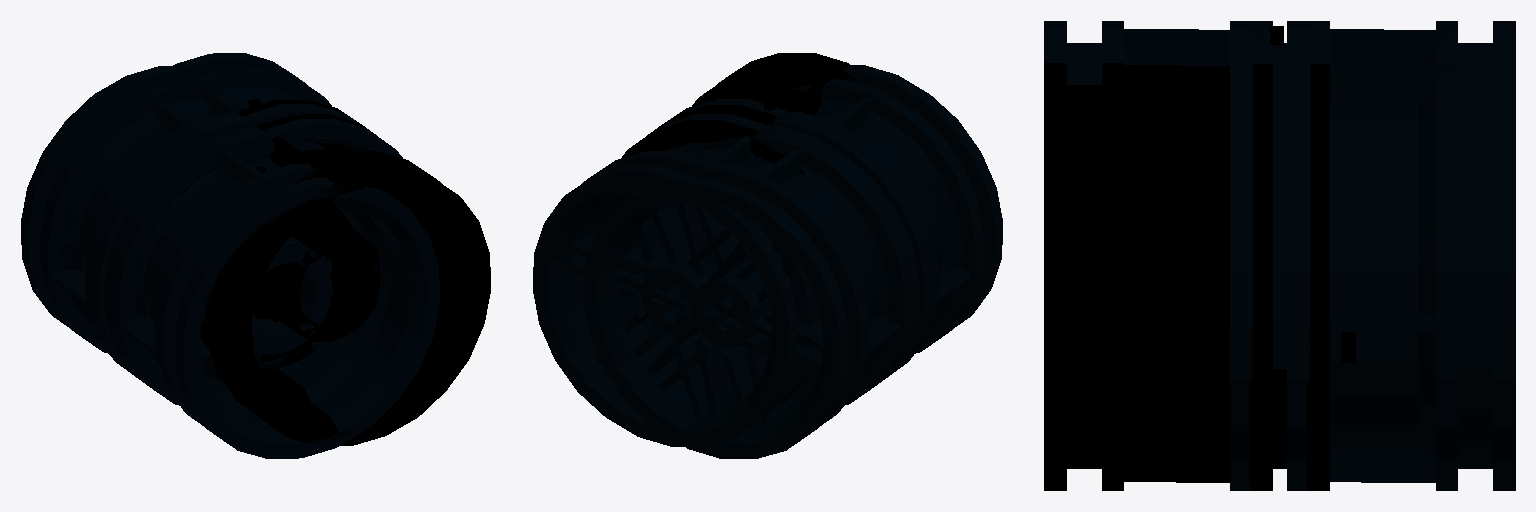
robot.urdf — maskor_ev3_bobb3e:
<?xml version="1.0"?>
<!-- ******************************************* -->
<!-- MASKOR EV3 BOBB3E URDF MODEL                -->   
<!-- [author]                            -->
<!-- [email redacted]                      -->   
<!-- [author]                                -->
<!-- [email redacted]            -->   
<!-- [author]                            -->
<!-- [email redacted]        -->   
<!-- ******************************************* -->


<robot name="maskor_ev3_bobb3e" xmlns:xacro="http://ros.org/wiki/xacro">

  <material name="white">
    <color rgba="1 1 1 1"/>
  </material>

  <material name="black">
    <color rgba="0 0 0 1"/>
  </material>


<!-- ************** -->
<!-- BASE FOOTPRINT -->   
<!-- ************** -->
  <link name="base_footprint">
  </link>


<!-- ************** -->
<!-- BASE LINK      -->   
<!-- ************** -->
  <link name="base_link">
    <visual>
      <geometry>
	<mesh filename="package://maskor_ev3/description/meshes/bobb3e_baseLink.dae" scale="1 1 1"/> 
        <!--box size="0.005 0.005 0.005"/-->
      </geometry>
      <origin rpy="0 0 0" xyz="0 0 -0.05"/>
      <material name="black"/>
    </visual>

    <collision>
      <geometry>
        <box size="0.005 0.005 0.005"/>
      </geometry>
    </collision>

    <inertial>
      <mass value="0.1"/>
      <inertia ixx="0.4" ixy="0.0" ixz="0.0" iyy="0.4" iyz="0.0" izz="0.2"/>
    </inertial>
  
  </link>


<!-- ******************** -->
<!-- LEFT FRONT WHEEL     -->   
<!-- ******************** -->
  <link name="left_front_wheel_link">
    <visual>
      <geometry>
     	<mesh filename="package://maskor_ev3/description/meshes/bobb3e_tire.dae" scale="1 1 1"/> 
      </geometry>
      <origin rpy="0 0 0" xyz="0 0 0"/>
    </visual>

    <collision>
      <geometry>
        <cylinder length="0.08" radius="0.075"/>
      </geometry>
    </collision>

  </link>

<!-- ****************** -->
<!-- RIGHT FRONT WHEEL  -->   
<!-- *****************  -->
  <link name="right_front_wheel_link">
    <visual>
      <geometry>
     	<mesh filename="package://maskor_ev3/description/meshes/bobb3e_tire.dae" scale="1 1 1"/> 
      </geometry>
      <material name="black"/>
     <origin rpy="0 0 0" xyz="0 0 0"/> 
   </visual>

    <collision>
      <geometry>
        <cylinder length="0.08" radius="0.075"/>
      </geometry>
    </collision>

  </link>

<!-- ******************** -->
<!-- LEFT REAR  WHEEL     -->   
<!-- ******************** -->
  <link name="left_rear_wheel_link">
    <visual>
      <geometry>
     	<mesh filename="package://maskor_ev3/description/meshes/bobb3e_tire.dae" scale="1 1 1"/> 
      </geometry>
      <origin rpy="0 0 0" xyz="0 0 0"/>
    </visual>

    <collision>
      <geometry>
        <cylinder length="0.08" radius="0.075"/>
      </geometry>
    </collision>

  </link>

<!-- ******************** -->
<!-- RIGHT REAR WHEEL     -->   
<!-- ******************** -->
  <link name="right_rear_wheel_link">
    <visual>
      <geometry>
     	<mesh filename="package://maskor_ev3/description/meshes/bobb3e_tire.dae" scale="1 1 1"/> 
      </geometry>
      <origin rpy="0 0 0" xyz="0 0 0"/>
    </visual>

    <collision>
      <geometry>
        <cylinder length="0.08" radius="0.075"/>
      </geometry>
    </collision>

  </link>



<!-- ************** -->
<!-- COLOR SENSOR     -->   
<!-- ************** -->
  <link name="color_sensor_link">
    <visual>
      <geometry>
        <box size="0.01 0.01 0.035"/>
      </geometry>
      <origin rpy="0 0 0" xyz="0 0 0"/>
      <material name="black"/>
    </visual>

    <collision>
      <geometry>
        <box size="0.01 0.01 0.035"/>
      </geometry>
    </collision>

  </link>


<!-- ************** -->
<!-- FORK LIFT     -->   
<!-- ************** -->
  <link name="fork_lift_link">
    <visual>
      <geometry>
	<!--mesh filename="package://maskor_ev3/description/meshes/bobb3e_tire.dae" scale="1 1 1"/--> 
	<box size="0.01 0.01 0.035"/>
      </geometry>
      <origin rpy="0 0 0" xyz="0 0 0"/>
      <material name="black"/>
    </visual>

    <collision>
      <geometry>
        <box size="0.01 0.01 0.01"/>
      </geometry>
    </collision>

    <inertial>
      <mass value="0.1"/>
      <inertia ixx="0.4" ixy="0.0" ixz="0.0" iyy="0.4" iyz="0.0" izz="0.2"/>
    </inertial>

  </link>


<!-- ************** -->
<!-- GYRO SENSOR     -->   
<!-- ************** -->
  <link name="gyro_sensor_link">
    <visual>
      <geometry>
        <box size="0.01 0.01 0.01"/>
      </geometry>
      <origin rpy="0 0 0" xyz="0 0 0"/>
      <material name="black"/>
    </visual>

    <collision>
      <geometry>
        <box size="0.01 0.01 0.01"/>
      </geometry>
    </collision>

  </link>

<!-- ***************  -->
<!-- INFRARED SENSOR -->   
<!-- ***************  -->
  <link name="infrared_sensor_link">
    <visual>
      <geometry>
        <box size="0.01 0.01 0.01"/>
      </geometry>
      <origin rpy="0 0 0" xyz="0 0 0"/>
      <material name="black"/>
    </visual>

    <collision>
      <geometry>
        <box size="0.01 0.01 0.01"/>
      </geometry>
    </collision>

  </link>


<!-- ***************  -->
<!-- FORK LINK  -->   
<!-- ***************  -->
<link name="fork_link">
  <visual>
    <geometry>
      <box size="0.01 0.1 0.01"/>
    </geometry>
    <origin rpy="0 0 0" xyz="0 0 0"/>
    <material name="black"/>
  </visual>

  <collision>
    <geometry>
      <box size="0.01 0.1 0.01"/>
    </geometry>
  </collision>

  </link>

  <link name="left_fork_link">
    <visual>
      <geometry>
	<box size="0.1 0.01 0.01"/>
      </geometry>
      <origin rpy="0 0 0" xyz="0.05 0 0"/>
      <material name="black"/>
    </visual>

    <collision>
      <geometry>
	<box size="0.1 0.01 0.01"/>
      </geometry>
      <origin rpy="0 0 0" xyz="0.05 0 0"/> 
    </collision>

  </link>

  <link name="right_fork_link">
    <visual>
      <geometry>
	<box size="0.1 0.01 0.01"/>
      </geometry>
      <origin rpy="0 0 0" xyz="0.05 0 0"/>
      <material name="black"/>
    </visual>

    <collision>
      <geometry>
	<box size="0.1 0.01 0.01"/>
      </geometry>
      <origin rpy="0 0 0" xyz="0.05 0 0"/>  
    </collision>

  </link>



<!-- ************** -->
<!-- JOINTS         -->   
<!-- ************** -->
  <joint name="base_link_to_base_footprint" type="fixed">
    <parent link="base_footprint"/>
    <child link="base_link"/>
   <origin xyz="0 0 0.05"/>
  </joint>

  <joint name="base_link_to_left_front_wheel" type="continuous">
    <parent link="base_link"/>
    <child link="left_front_wheel_link"/>
    <origin xyz="0.03 0.065 -0.05"/>
    <axis xyz="0 1 0"/>
</joint>

  <joint name="base_link_to_right_front_wheel" type="continuous">
    <parent link="base_link"/>
    <child link="right_front_wheel_link"/>
    <origin xyz="0.03 -0.065 -0.05"/>
    <axis xyz="0 1 0"/>  
  </joint>

  <joint name="base_link_to_left_rear_wheel" type="continuous">
    <parent link="base_link"/>
    <child link="left_rear_wheel_link"/>
    <origin xyz="-0.03 0.065 -0.05"/>
    <axis xyz="0 1 0"/>
</joint>

  <joint name="base_link_to_right_rear_wheel" type="continuous">
    <parent link="base_link"/>
    <child link="right_rear_wheel_link"/>
    <origin xyz="-0.03 -0.065 -0.05"/>
    <axis xyz="0 1 0"/>  
  </joint>

 <joint name="base_link_to_color_sensor" type="fixed">
    <parent link="base_link"/>
    <child link="color_sensor_link"/>
    <origin xyz="0.1 -0.00 -0.035" rpy="0 1.5708 0"/>
  </joint>

 <joint name="base_link_to_fork_lift" type="prismatic">
    <parent link="base_link"/>
    <child link="fork_lift_link"/>
    <origin rpy="0 0 0" xyz="0.1 -0.00 -0.035"/>
    <axis xyz="0 0 1"/>
    <limit effort="1000.0" lower="0" upper="0.15" velocity="0.5"/>
 </joint>

 <joint name="base_link_to_gyro_sensor" type="fixed">
    <parent link="base_link"/>
    <child link="gyro_sensor_link"/>
    <origin xyz="-0.03 -0.06 0.075"/>
  </joint>

 <joint name="base_link_to_infrared_sensor" type="fixed">
    <parent link="base_link"/>
    <child link="infrared_sensor_link"/>
    <origin xyz="0 0 0.12"/>
  </joint>

 <joint name="fork_lift_link_to_fork_link" type="fixed">
    <parent link="fork_lift_link"/>
    <child link="fork_link"/>
    <origin xyz="0 0 0"/>
  </joint>

 <joint name="fork_link_to_left_fork" type="fixed">
    <parent link="fork_link"/>
    <child link="left_fork_link"/>
    <origin xyz="0 -0.05 0"/>
  </joint>

 <joint name="fork_link_to_right_fork" type="fixed">
    <parent link="fork_link"/>
    <child link="right_fork_link"/>
    <origin xyz="0 0.05 0"/>
  </joint>


</robot>

--- Render facts (derived) ---
Views: 3 orthographic renders of the robot side by side, from view 1: azimuth 30°, elevation 25°; view 2: azimuth 150°, elevation 25°; view 3: azimuth 270°, elevation 25°.
Robot: maskor_ev3_bobb3e — 13 links, 12 joints (4 continuous, 1 prismatic, 7 fixed); root link base_footprint; default pose: every joint at zero.
Links seen in each view (by area): view 1: right_rear_wheel_link, right_front_wheel_link, left_rear_wheel_link, left_front_wheel_link; view 2: left_rear_wheel_link, left_front_wheel_link, right_rear_wheel_link, right_front_wheel_link; view 3: left_front_wheel_link, right_front_wheel_link, left_rear_wheel_link, right_rear_wheel_link.
Link boxes in pixels (x1,y1,x2,y2): right_rear_wheel_link: (84, 112, 439, 458); right_front_wheel_link: (201, 99, 490, 446); left_rear_wheel_link: (21, 66, 325, 405); left_front_wheel_link: (173, 53, 402, 351); left_rear_wheel_link: (584, 112, 939, 458); left_front_wheel_link: (533, 99, 817, 446); right_rear_wheel_link: (698, 65, 1002, 405); right_front_wheel_link: (622, 53, 862, 174); left_front_wheel_link: (1230, 63, 1515, 490); right_front_wheel_link: (1044, 63, 1329, 490); left_rear_wheel_link: (1230, 21, 1515, 84); right_rear_wheel_link: (1044, 21, 1329, 84).
Bounding box of the posed robot: 0.38 × 0.33 × 0.3271 m (x, y, z).
Meshes: 2 distinct files referenced, 4 mesh visuals loaded (1 Collada DAE); not drawn: 1 (reference not matched to a file when rendering).
